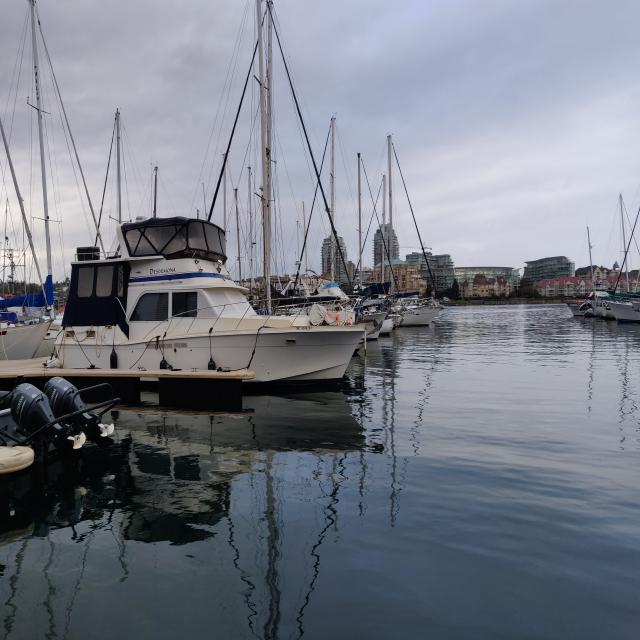boat: (56, 210, 372, 390), (341, 128, 442, 330), (271, 269, 390, 340)
